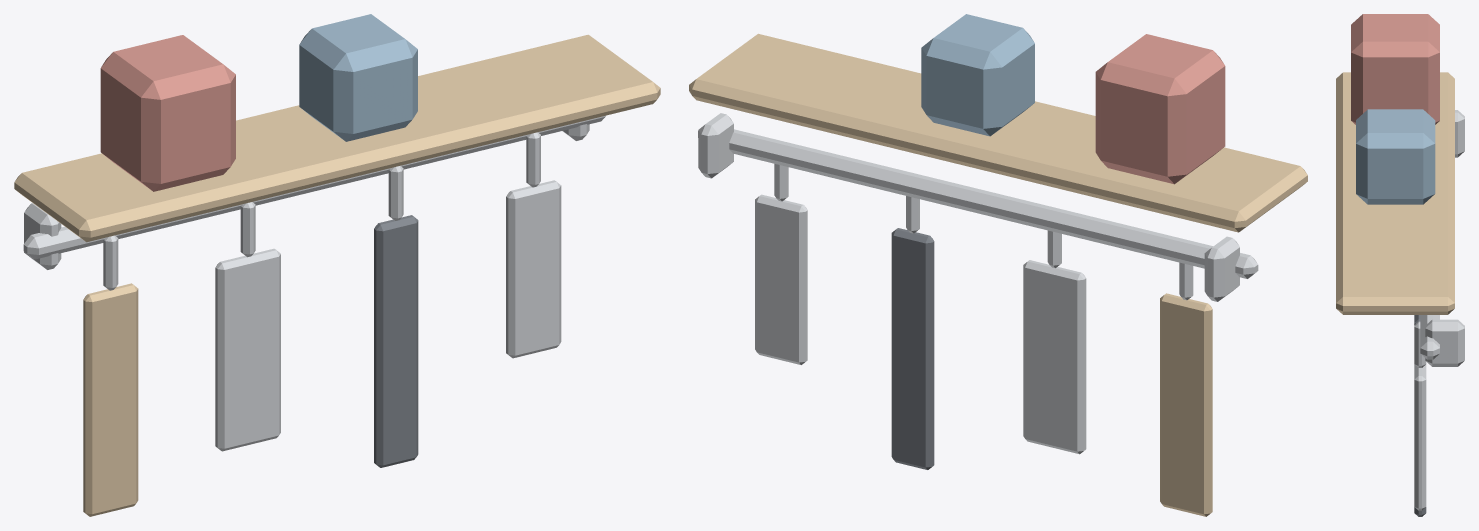
File: UtensilRail.glb
3 views of the same model, side by side, from view 1: azimuth 30°, elevation 25°; view 2: azimuth 150°, elevation 25°; view 3: azimuth 270°, elevation 25° (orthographic). The views are drawn at different scales.
Visible parts, largest first — view 1: UtensilRail_Body; view 2: UtensilRail_Body; view 3: UtensilRail_Body.
Boxes of the visible parts, x1,y1,x2,y2 form: UtensilRail_Body: (14, 14, 660, 516); UtensilRail_Body: (689, 14, 1307, 516); UtensilRail_Body: (1336, 14, 1464, 516).
Bounding box in the file's own units: 0.55 × 0.43 × 0.13.
